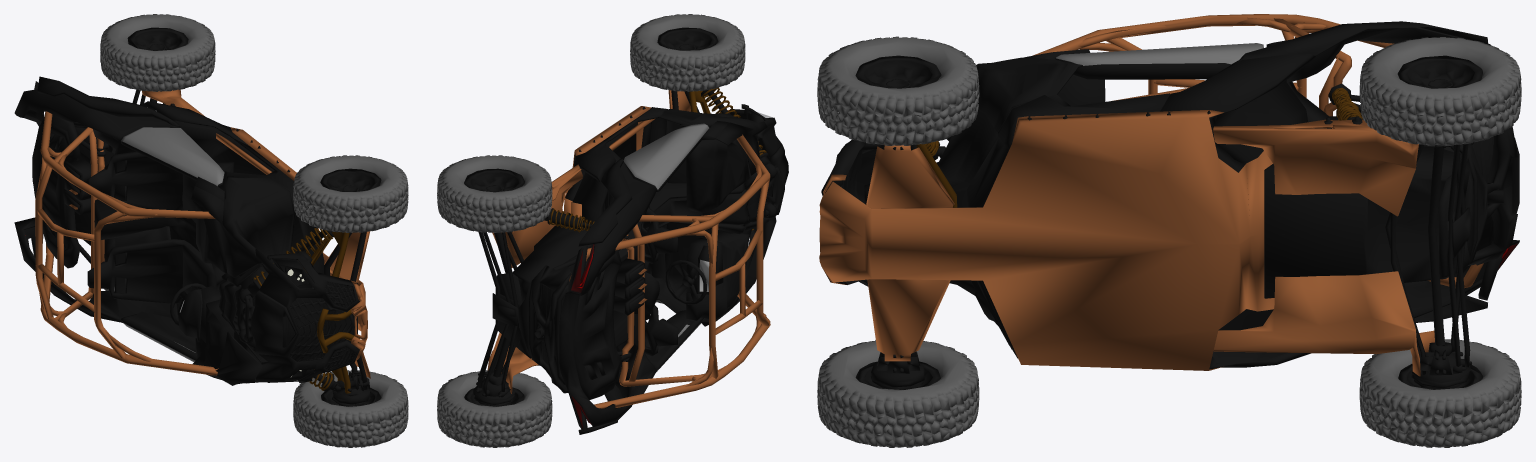
File: can_am_maverick.glb
The picture shows the model from 3 angles, left to right: view 1: azimuth 30°, elevation 25°; view 2: azimuth 150°, elevation 25°; view 3: azimuth 270°, elevation 25°; orthographic projection. The views are drawn at different scales.
Parts seen in each view (by area): view 1: Line003; view 2: Line003; view 3: Line003.
Part boxes in pixels (bbox=[...]): Line003: bbox=[14, 14, 408, 447]; Line003: bbox=[437, 14, 788, 447]; Line003: bbox=[817, 14, 1521, 447].
Bounding box in the file's own units: 0.00177 × 0.00189 × 0.0034.
